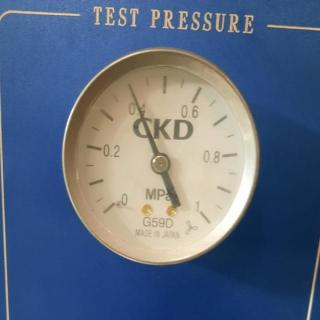gauge: (31, 21, 291, 318), (100, 191, 128, 217), (190, 200, 214, 226), (149, 153, 171, 175), (123, 80, 135, 92)
